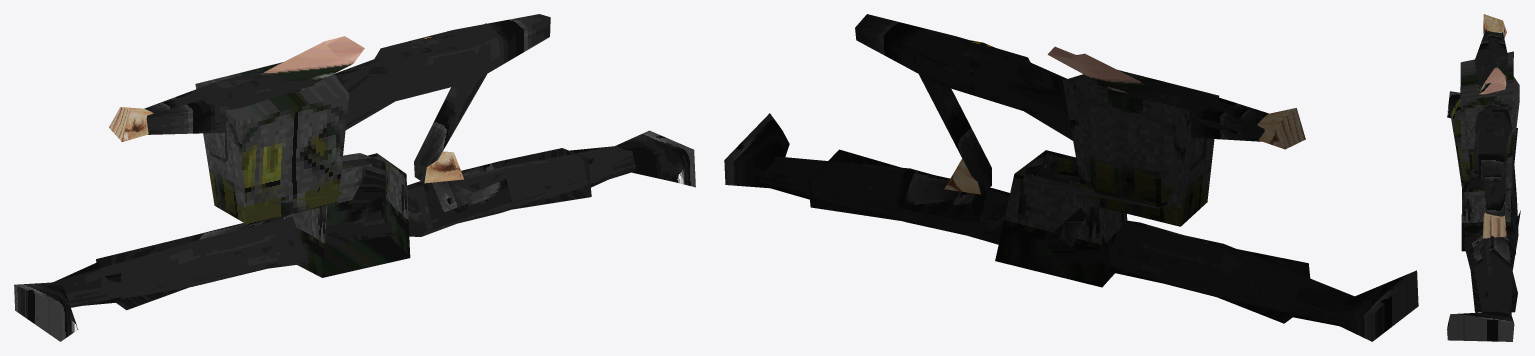
Rendered from CtrevguardZ.obj.
The picture shows the model from 3 angles, left to right: view 1: azimuth 30°, elevation 25°; view 2: azimuth 150°, elevation 25°; view 3: azimuth 270°, elevation 25°; orthographic projection. The views are drawn at different scales.
Bounding box in the file's own units: 2167 × 681 × 304.
Materials: 17 (17 with a texture image).
